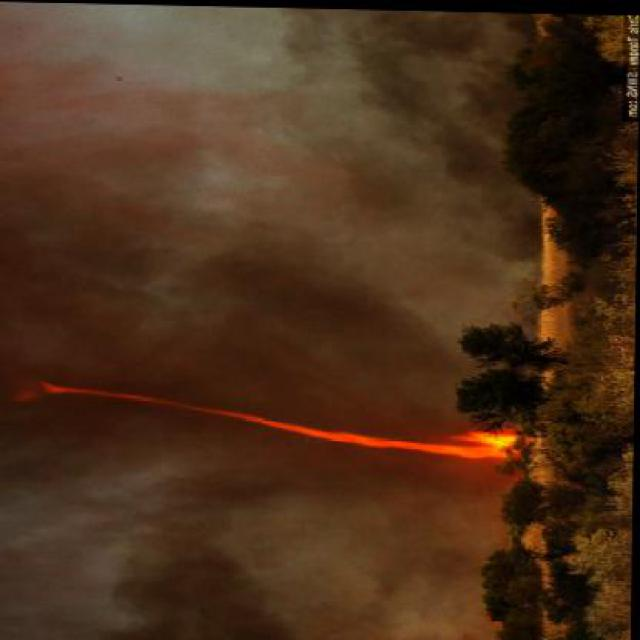fire: (10, 360, 534, 489)
